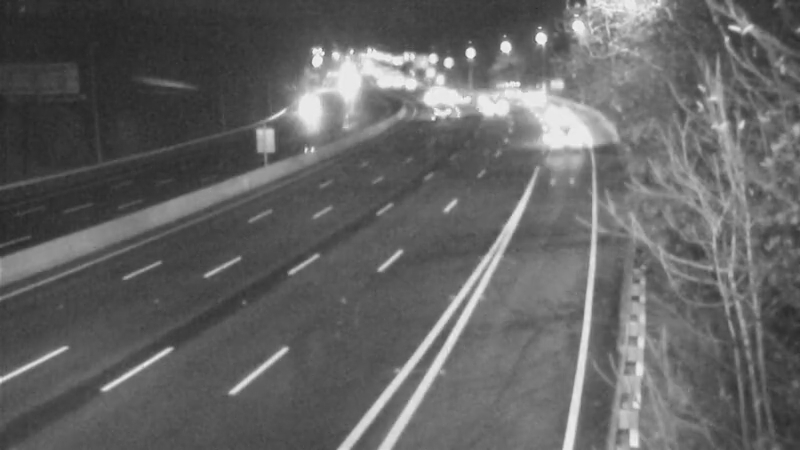vehicle: (482, 63, 532, 113), (413, 63, 463, 113), (405, 73, 455, 123), (508, 73, 558, 123), (460, 72, 510, 122), (471, 78, 521, 128), (528, 85, 578, 135), (420, 87, 470, 137), (537, 111, 587, 161), (279, 84, 329, 134)
